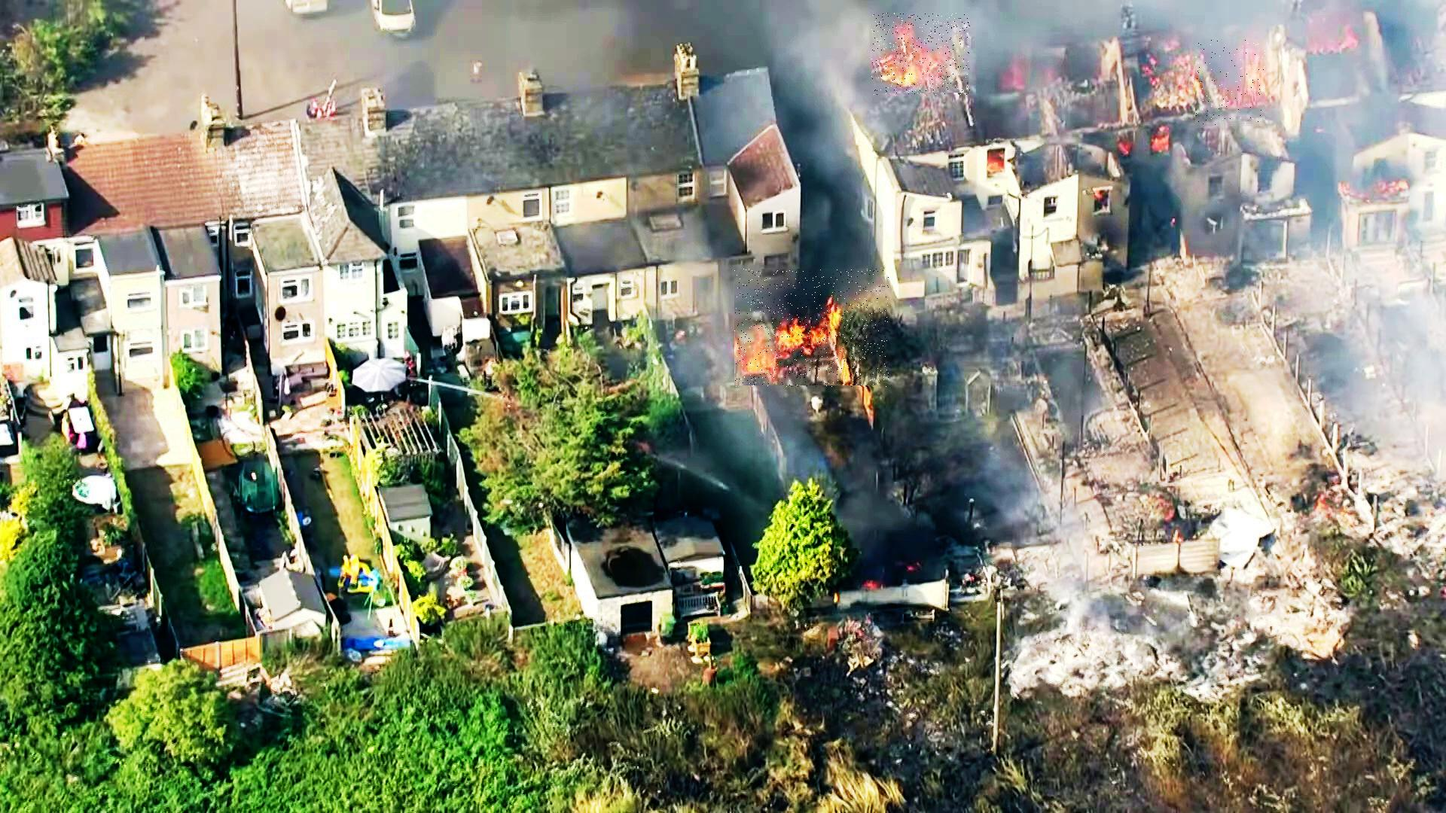fire: (735, 269, 889, 387), (872, 13, 971, 95), (1195, 40, 1265, 126)
